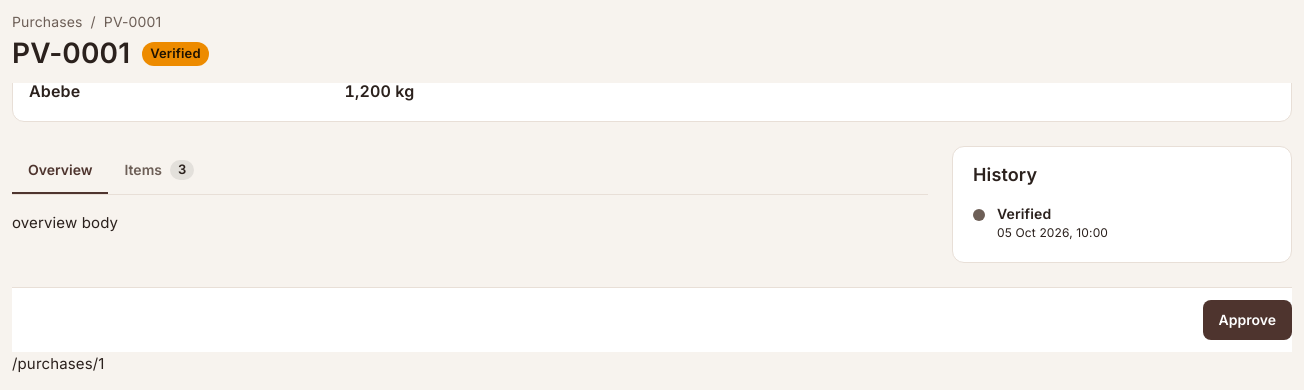
Scenario: DetailTemplate › keeps the open tab in the URL
Click the tab "Items 3". click: (159, 170)
box: [108,146,210,194]
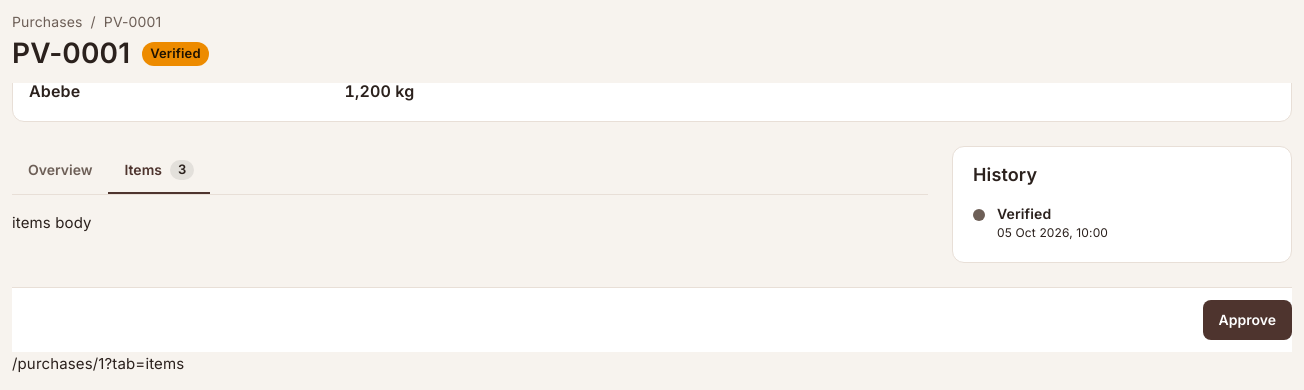
expect the text with test id "where" reads "/purchases/1?tab=items": met, box [12,354,184,373]
expect the panel reads "items body": met, box [12,213,92,232]
